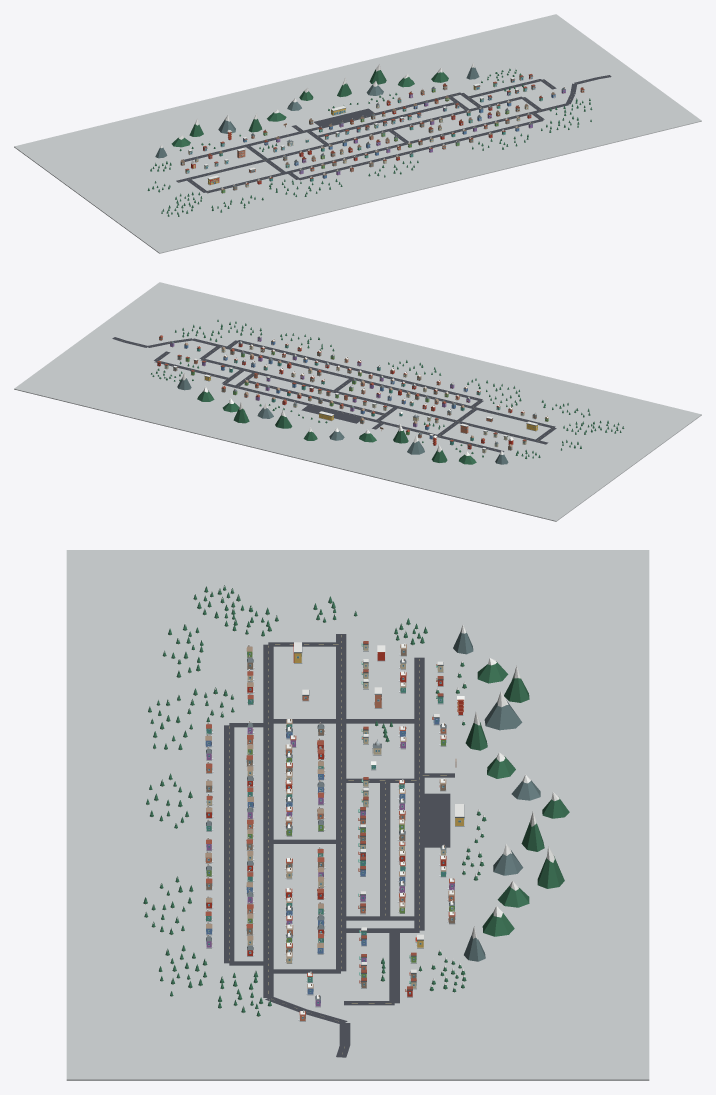
File: southpark_town.glb
3 renders of one model, top to bottom at view 1: azimuth 30°, elevation 25°; view 2: azimuth 150°, elevation 25°; view 3: azimuth 270°, elevation 25°, orthographic. The views are drawn at different scales.
Visible parts, largest first — view 1: SPT_Snow_Ground, SPT_Road_Central_Avenue, SPT_Road_North_Avenue, SPT_Road_Residential_Avenue, SPT_Road_South_Neighborhood, SPT_Road_Infill_Main; view 2: SPT_Snow_Ground, SPT_Road_North_Avenue, SPT_Road_Central_Avenue, SPT_Road_Residential_Avenue, SPT_Road_South_Neighborhood; view 3: SPT_Snow_Ground, SPT_Road_North_Avenue, SPT_Road_Central_Avenue, SPT_Road_Residential_Avenue, SPT_Road_South_Neighborhood, SPT_Mall_Parking, SPT_Road_Infill_Main, SPT_Road_Back_Road, SPT_Mountain_04.
Boxes of the visible parts, bbox=[...] form: SPT_Snow_Ground: bbox=[14, 14, 701, 253]; SPT_Road_Central_Avenue: bbox=[176, 96, 541, 182]; SPT_Road_North_Avenue: bbox=[183, 79, 556, 161]; SPT_Road_Residential_Avenue: bbox=[206, 107, 549, 193]; SPT_Road_South_Neighborhood: bbox=[299, 119, 543, 180]; SPT_Road_Infill_Main: bbox=[318, 102, 455, 137]; SPT_Snow_Ground: bbox=[14, 282, 701, 521]; SPT_Road_North_Avenue: bbox=[154, 351, 504, 452]; SPT_Road_Central_Avenue: bbox=[199, 346, 548, 444]; SPT_Road_Residential_Avenue: bbox=[209, 343, 555, 427]; SPT_Road_South_Neighborhood: bbox=[238, 340, 482, 400]; SPT_Snow_Ground: bbox=[66, 550, 649, 1080]; SPT_Road_North_Avenue: bbox=[344, 657, 424, 1005]; SPT_Road_Central_Avenue: bbox=[273, 634, 346, 973]; SPT_Road_Residential_Avenue: bbox=[263, 644, 273, 980]; SPT_Road_South_Neighborhood: bbox=[224, 725, 234, 963]; SPT_Mall_Parking: bbox=[424, 793, 450, 847]; SPT_Road_Infill_Main: bbox=[380, 783, 390, 916]; SPT_Road_Back_Road: bbox=[263, 980, 350, 1057]; SPT_Mountain_04: bbox=[484, 691, 522, 730].
Size of the model in its own units: 720 by 24.2 by 335.
